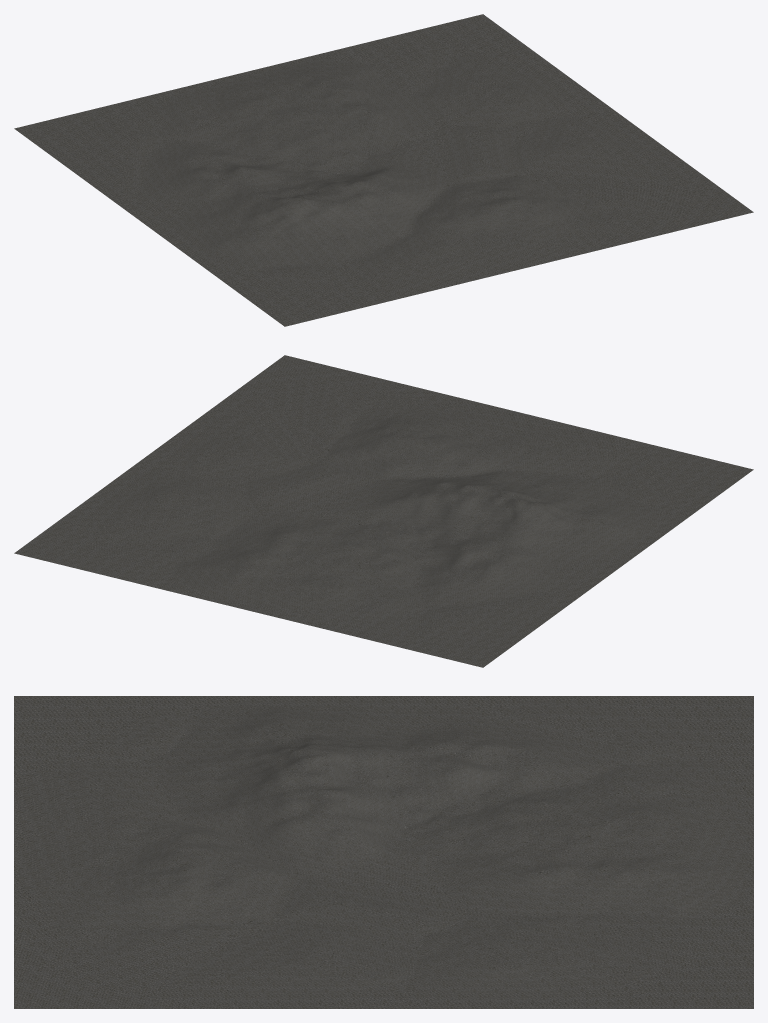
File: Tierra Bosque.fbx
3 renders of one model, top to bottom at view 1: azimuth 30°, elevation 25°; view 2: azimuth 150°, elevation 25°; view 3: azimuth 270°, elevation 25°, orthographic. The views are drawn at different scales.
Parts seen in each view (by area): view 1: Suelo Bosque; view 2: Suelo Bosque; view 3: Suelo Bosque.
Part boxes in pixels (box(x1,y1,x2,y2)): Suelo Bosque: box(14, 14, 753, 326); Suelo Bosque: box(14, 355, 753, 667); Suelo Bosque: box(14, 696, 753, 1008).
Size of the model in its own units: 20000 by 700 by 20000.
